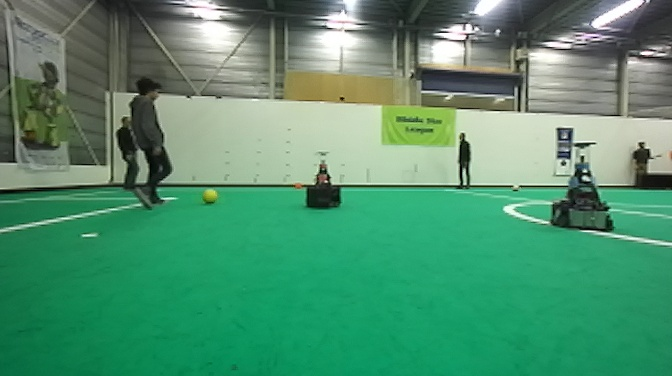ball: (201, 186, 219, 207), (291, 180, 303, 193), (509, 183, 521, 193)
human: (125, 75, 174, 211), (114, 113, 143, 191), (453, 129, 473, 191)
robot: (546, 139, 616, 236), (304, 148, 344, 211)
